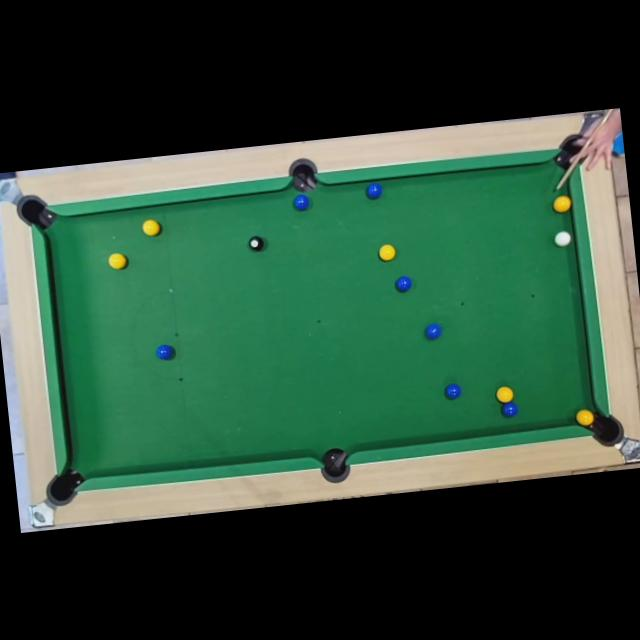Ball: (442, 382, 462, 400), (106, 252, 126, 270), (495, 385, 515, 403), (141, 218, 160, 236), (248, 234, 266, 252), (365, 182, 383, 200), (424, 322, 442, 340), (553, 194, 571, 212), (394, 275, 412, 293), (378, 244, 396, 262), (576, 409, 594, 427), (292, 194, 310, 212), (500, 401, 519, 418), (554, 230, 572, 247), (156, 343, 173, 360)
